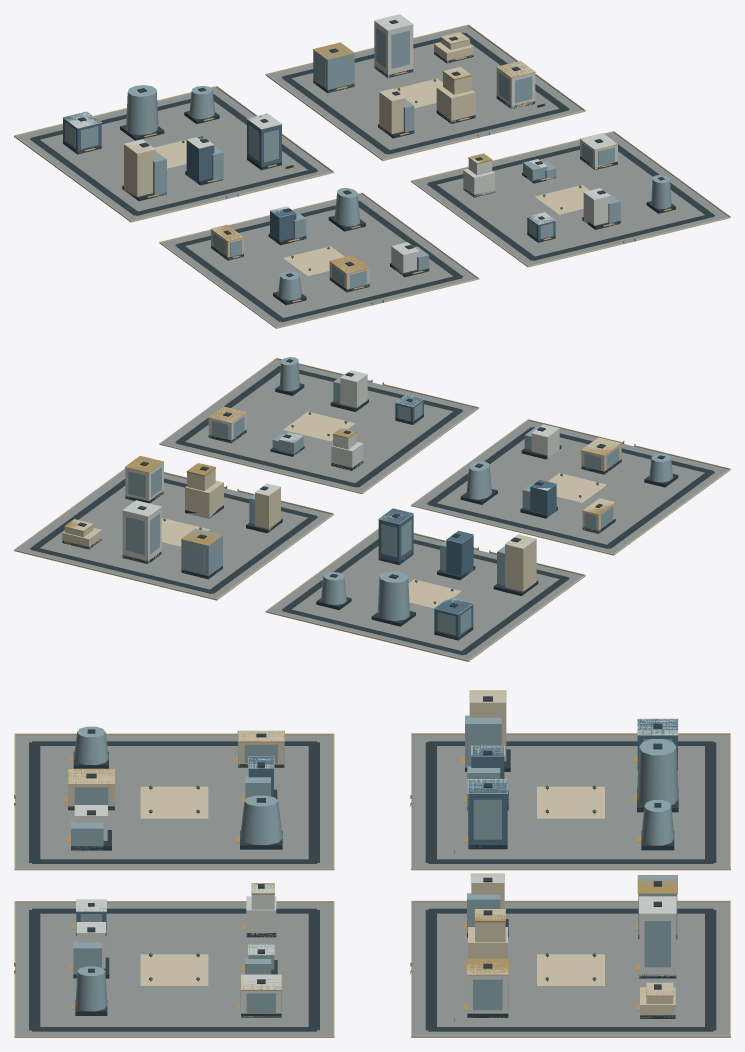
Rendered from GC-TILE-07-16.glb.
The picture shows the model from 3 angles, top to bottom: view 1: azimuth 30°, elevation 25°; view 2: azimuth 150°, elevation 25°; view 3: azimuth 270°, elevation 25°; orthographic projection. The views are drawn at different scales.
Visible parts, largest first — view 1: GC-TILE-07-16-paving, GC-TILE-07-16-dark, GC-TILE-07-16-ivory, GC-TILE-07-16-glass, GC-TILE-07-16-white, GC-TILE-07-16-blue, GC-TILE-07-16-gold; view 2: GC-TILE-07-16-paving, GC-TILE-07-16-dark, GC-TILE-07-16-ivory, GC-TILE-07-16-glass, GC-TILE-07-16-white, GC-TILE-07-16-blue, GC-TILE-07-16-gold; view 3: GC-TILE-07-16-paving, GC-TILE-07-16-dark, GC-TILE-07-16-ivory, GC-TILE-07-16-glass, GC-TILE-07-16-white, GC-TILE-07-16-blue, GC-TILE-07-16-gold.
Part boxes in pixels (x1,y1,x2,y2): GC-TILE-07-16-paving: (16,26,728,327); GC-TILE-07-16-dark: (30,19,714,322); GC-TILE-07-16-ivory: (14,24,730,328); GC-TILE-07-16-glass: (65,27,671,300); GC-TILE-07-16-white: (62,14,617,275); GC-TILE-07-16-blue: (63,112,555,243); GC-TILE-07-16-gold: (85,32,671,305); GC-TILE-07-16-paving: (16,359,728,659); GC-TILE-07-16-dark: (30,359,714,655); GC-TILE-07-16-ivory: (14,358,730,661); GC-TILE-07-16-glass: (126,357,673,634); GC-TILE-07-16-white: (122,370,559,614); GC-TILE-07-16-blue: (378,394,556,639); GC-TILE-07-16-gold: (64,379,673,553); GC-TILE-07-16-paving: (15,735,729,1035); GC-TILE-07-16-dark: (29,696,716,1031); GC-TILE-07-16-ivory: (14,690,730,1037); GC-TILE-07-16-glass: (71,715,678,1012); GC-TILE-07-16-white: (74,690,678,1017); GC-TILE-07-16-blue: (76,719,677,935); GC-TILE-07-16-gold: (14,730,677,1018).
Size of the model in its own units: 759 by 77.77 by 760.
